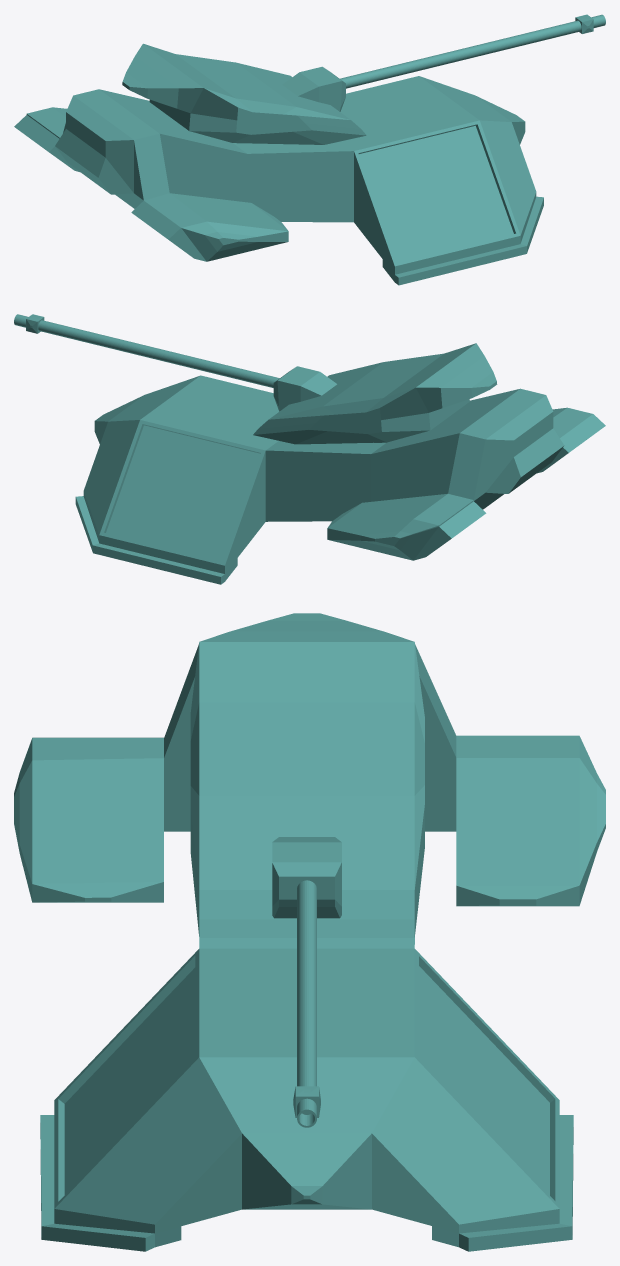
File: tank.glb
3 renders of one model, top to bottom at view 1: azimuth 30°, elevation 25°; view 2: azimuth 150°, elevation 25°; view 3: azimuth 270°, elevation 25°, orthographic. The views are drawn at different scales.
Parts seen in each view (by area): view 1: Cube; view 2: Cube; view 3: Cube.
Part boxes in pixels (box(x1,y1,x2,y2)): Cube: box(14, 14, 605, 285); Cube: box(14, 314, 605, 584); Cube: box(14, 613, 605, 1251).
Bounding box in the file's own units: 10 × 3.65 × 5.49.
